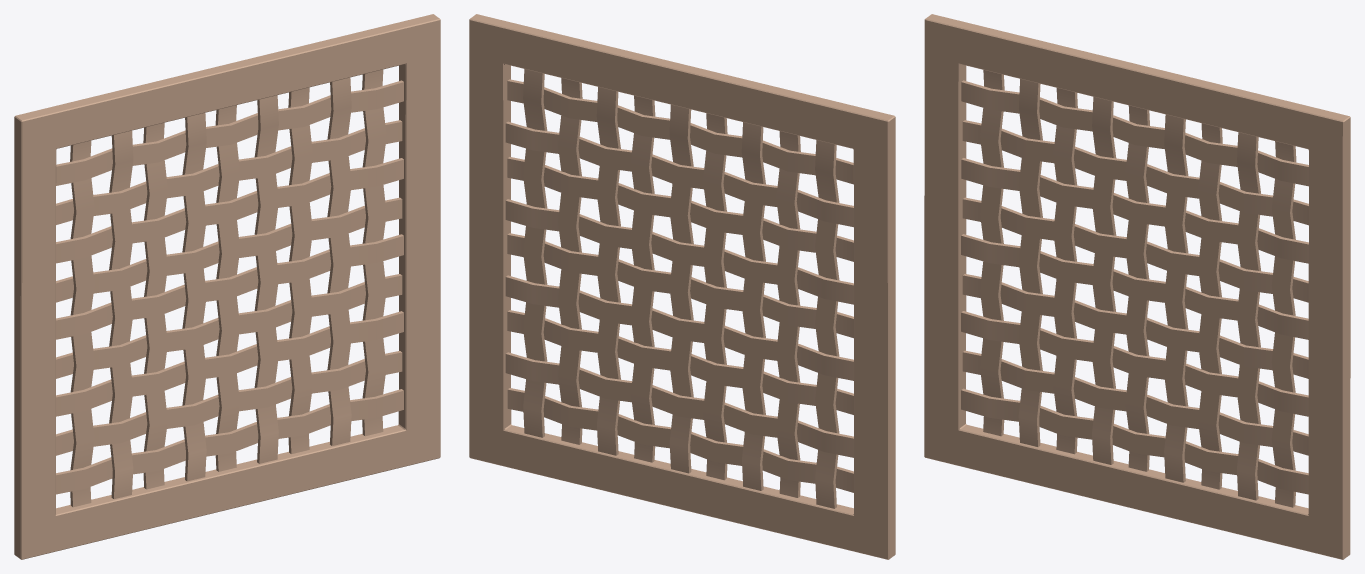
File: ThorkeaSideTableLidHolRobothorSideTableLidHol_1.obj
The picture shows the model from 3 angles, left to right: view 1: azimuth 30°, elevation 25°; view 2: azimuth 150°, elevation 25°; view 3: azimuth 330°, elevation 25°; orthographic projection.
Visible parts, largest first — view 1: RobothorSideTableLidHol; view 2: RobothorSideTableLidHol; view 3: RobothorSideTableLidHol.
Part boxes in pixels (x1,y1,x2,y2): RobothorSideTableLidHol: [14, 14, 440, 559]; RobothorSideTableLidHol: [469, 14, 895, 559]; RobothorSideTableLidHol: [924, 14, 1350, 559].
Size of the model in its own units: 0.5003 by 0.5003 by 0.0154.
